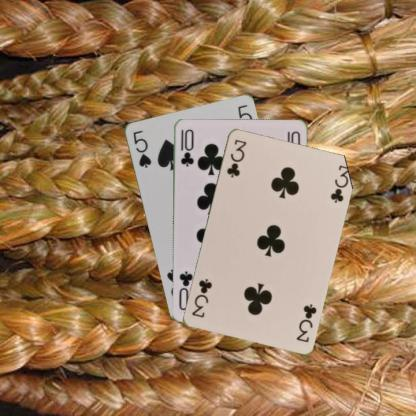10c: (178, 126, 195, 168)
3c: (293, 301, 318, 343), (224, 136, 247, 178)
5s: (130, 128, 153, 168)
